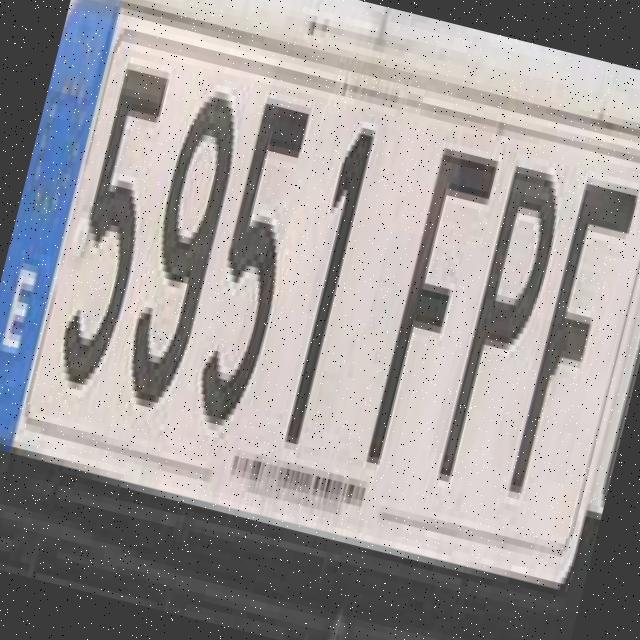EU: (0, 0, 640, 592)
Espagne: (0, 0, 123, 455)
